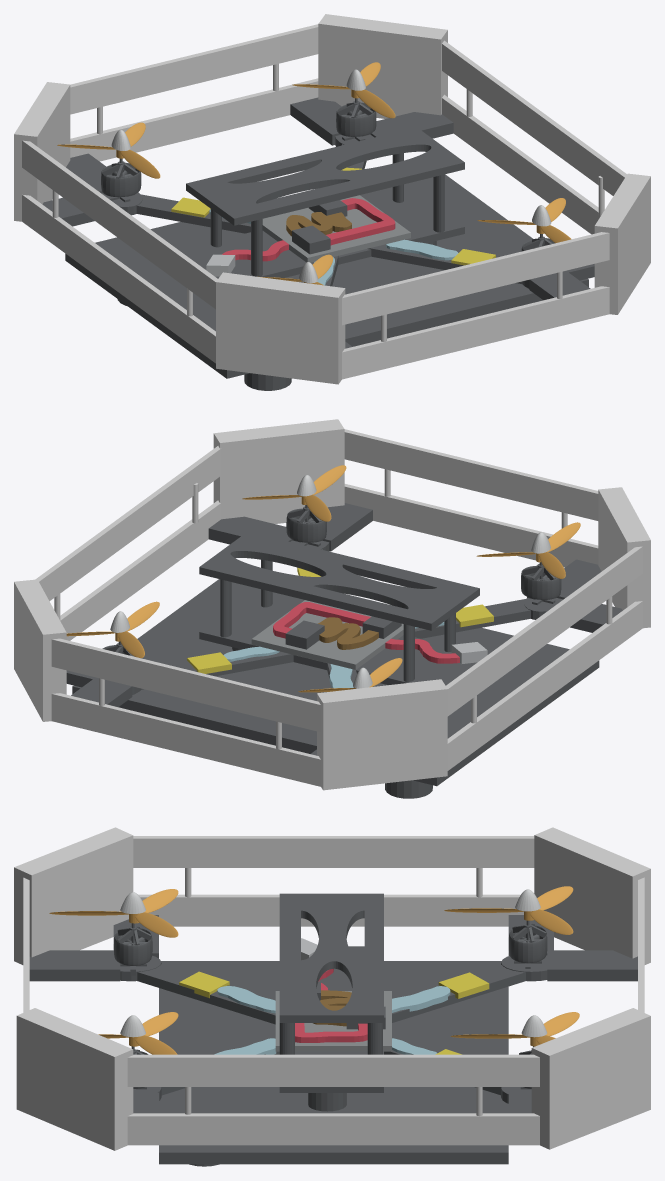
File: Copy of дрон.glb
3 renders of one model, top to bottom at view 1: azimuth 30°, elevation 25°; view 2: azimuth 150°, elevation 25°; view 3: azimuth 270°, elevation 25°, orthographic. The views are drawn at different scales.
Parts seen in each view (by area): view 1: Mesh_Mesh_head_geo.001_lambert2SG.001; view 2: Mesh_Mesh_head_geo.001_lambert2SG.001; view 3: Mesh_Mesh_head_geo.001_lambert2SG.001.
Boxes of the visible parts, x1,y1,x2,y2 form: Mesh_Mesh_head_geo.001_lambert2SG.001: [14, 14, 650, 390]; Mesh_Mesh_head_geo.001_lambert2SG.001: [14, 419, 650, 798]; Mesh_Mesh_head_geo.001_lambert2SG.001: [14, 827, 650, 1166].
Size of the model in its own units: 84 by 28 by 98.42.
